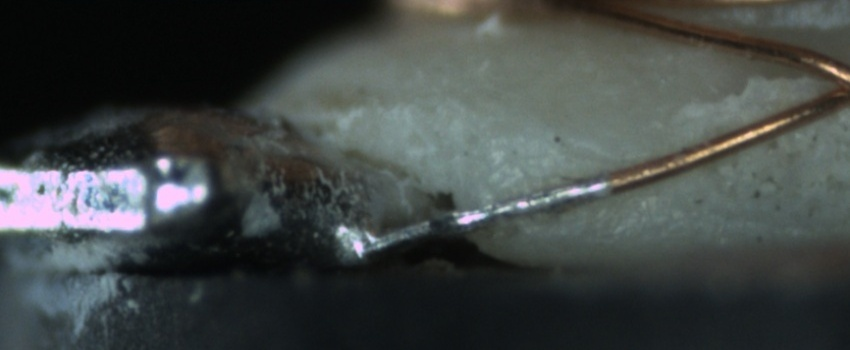CL: (800, 53, 850, 117)
TB: (431, 204, 489, 234)
TS: (355, 174, 596, 258)
TTCW: (354, 156, 663, 253)
